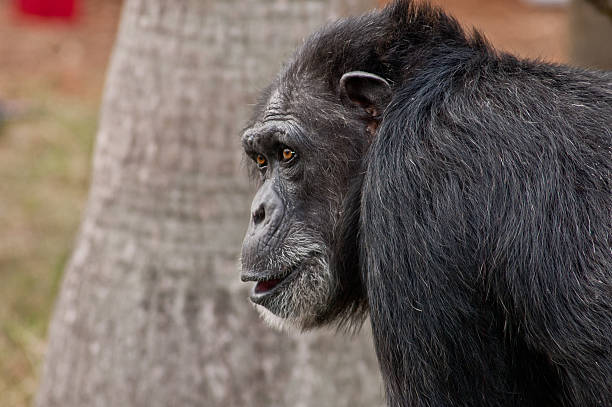chimpanzee: (210, 4, 478, 346)
